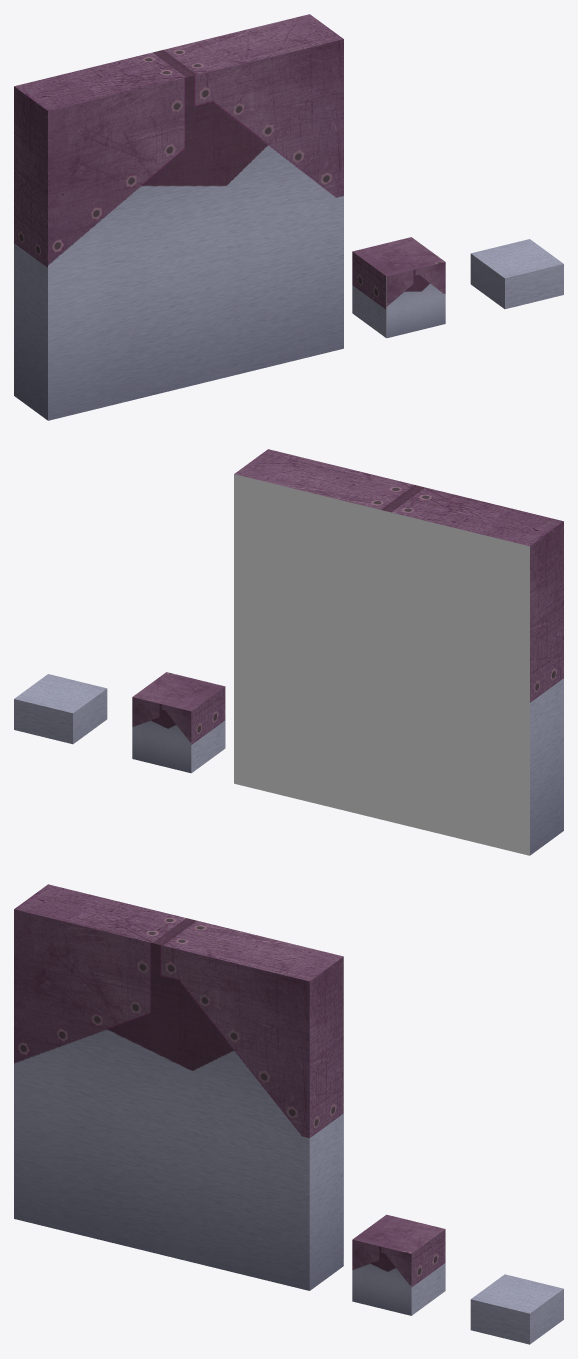
The model's file is GAT_tiles.fbx.
3 renders of one model, top to bottom at view 1: azimuth 30°, elevation 25°; view 2: azimuth 150°, elevation 25°; view 3: azimuth 330°, elevation 25°, orthographic.
Parts seen in each view (by area): view 1: Cube.2, Cube, Cube.1; view 2: Cube.2, Cube, Cube.1; view 3: Cube.2, Cube, Cube.1.
Part boxes in pixels (box(x1,y1,x2,y2)): Cube.2: box(14, 14, 343, 420); Cube: box(352, 237, 445, 338); Cube.1: box(470, 239, 563, 309); Cube.2: box(234, 449, 563, 855); Cube: box(132, 672, 225, 773); Cube.1: box(14, 674, 107, 744); Cube.2: box(14, 884, 343, 1290); Cube: box(352, 1214, 445, 1315); Cube.1: box(470, 1274, 563, 1344).
Bounding box in the file's own units: 1744 × 1000 × 200.
3 materials, 3 textured.
